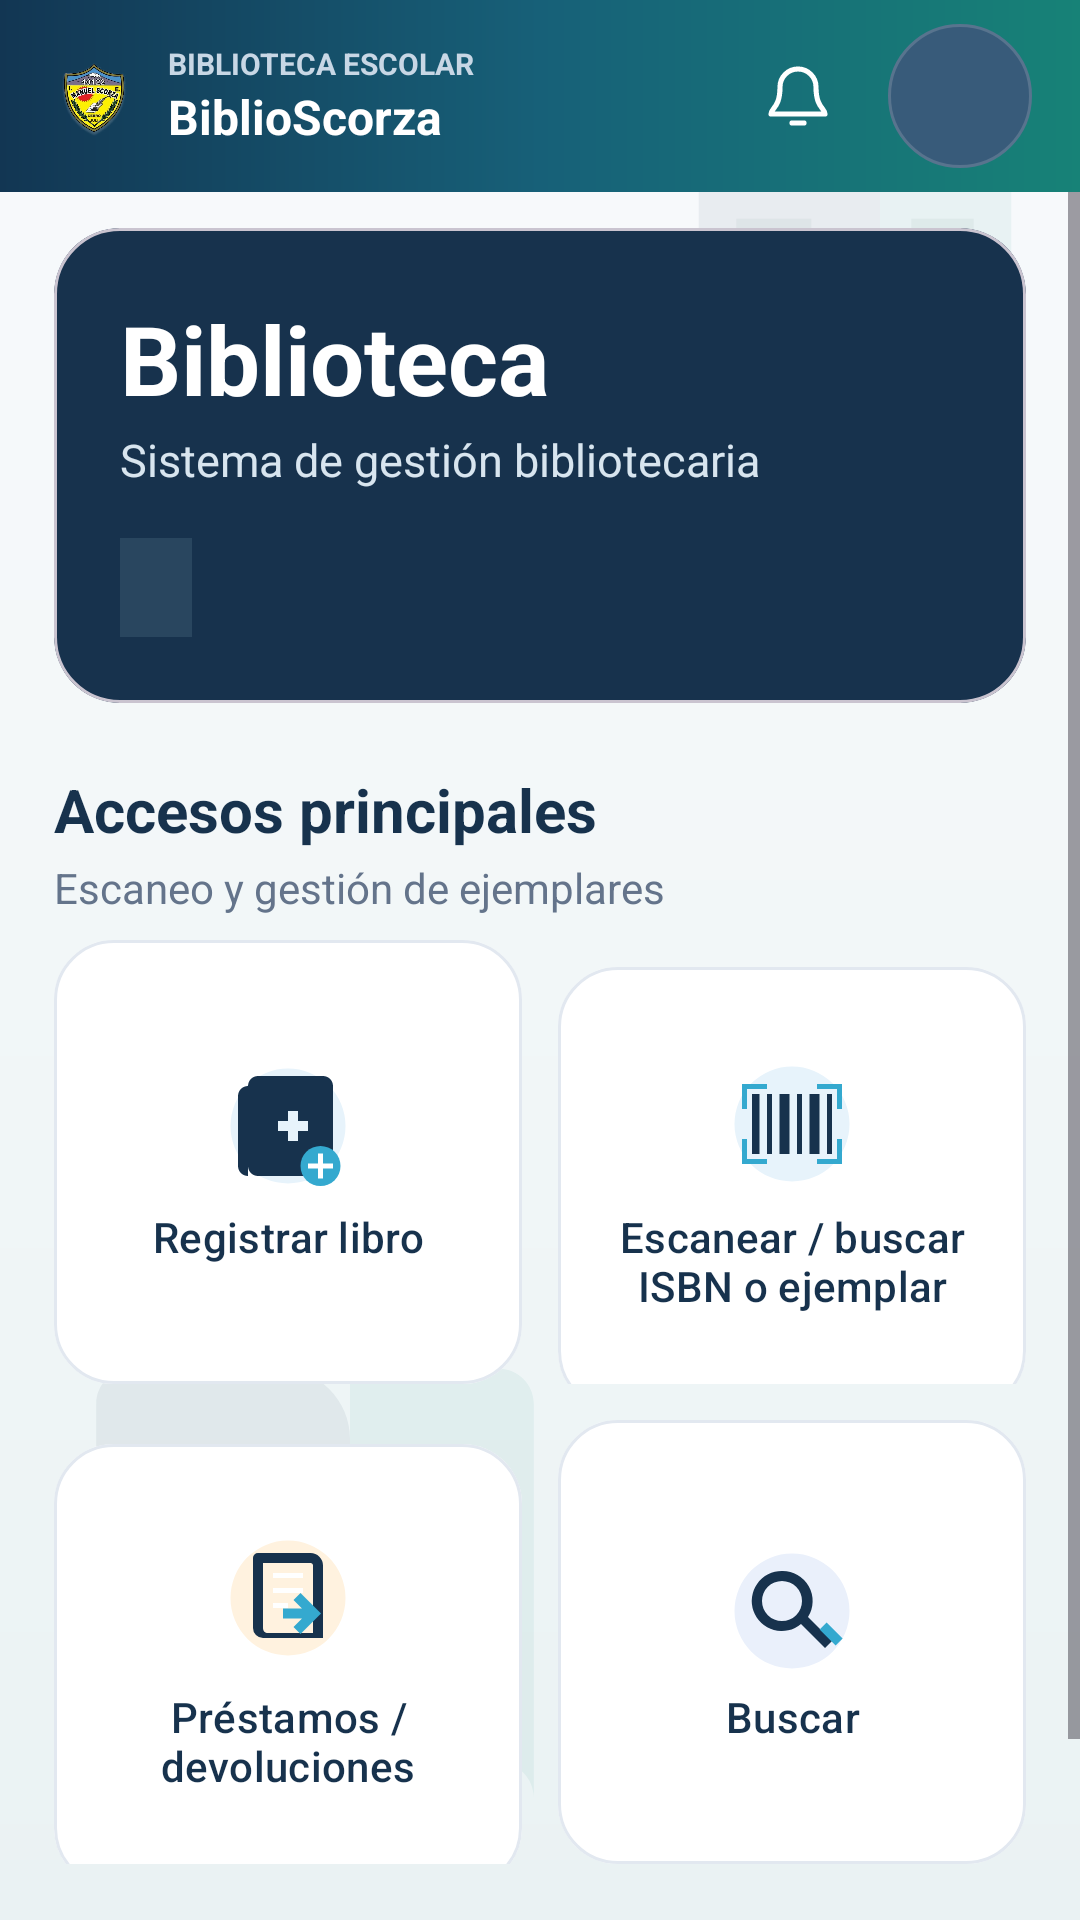

Where to tap for icons on this 1080px×1920px app screen, as [x,y]:
notifications: [798,96]
